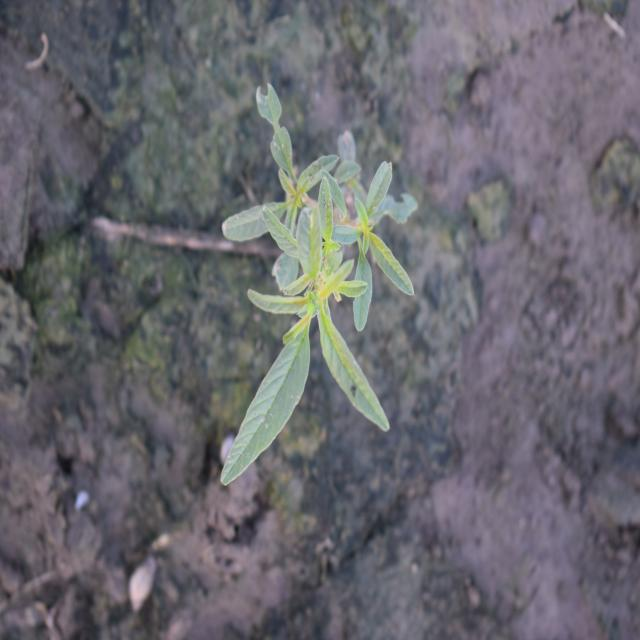Waterhemp: (218, 81, 422, 490)
